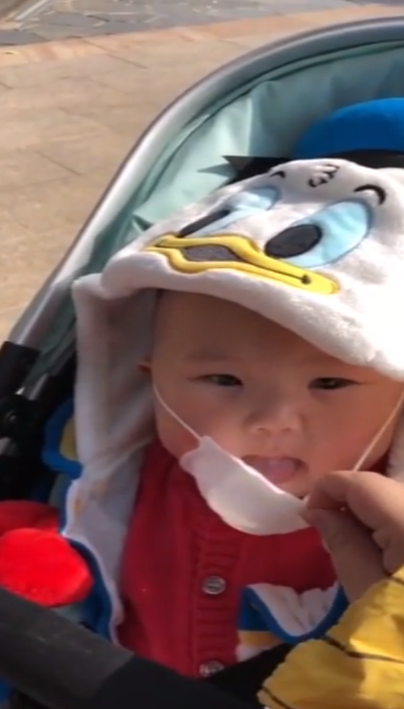mask_weared_incorrect: (127, 272, 404, 539)
